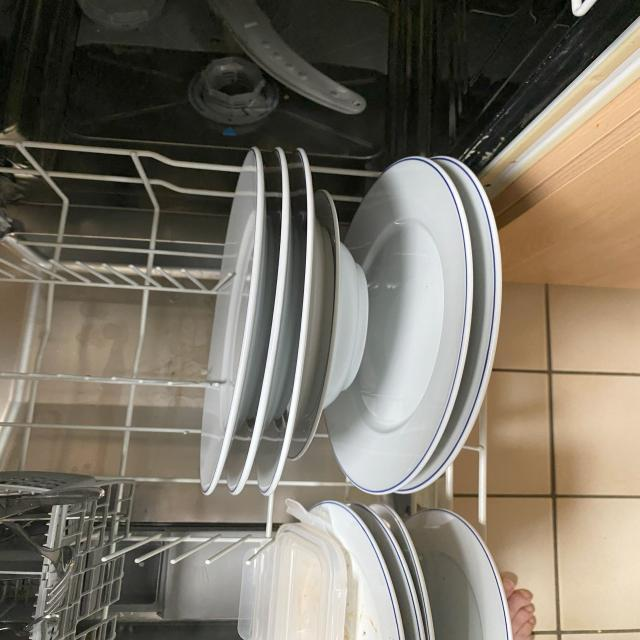empty_slot: (18, 156, 184, 478), (111, 510, 243, 640)
